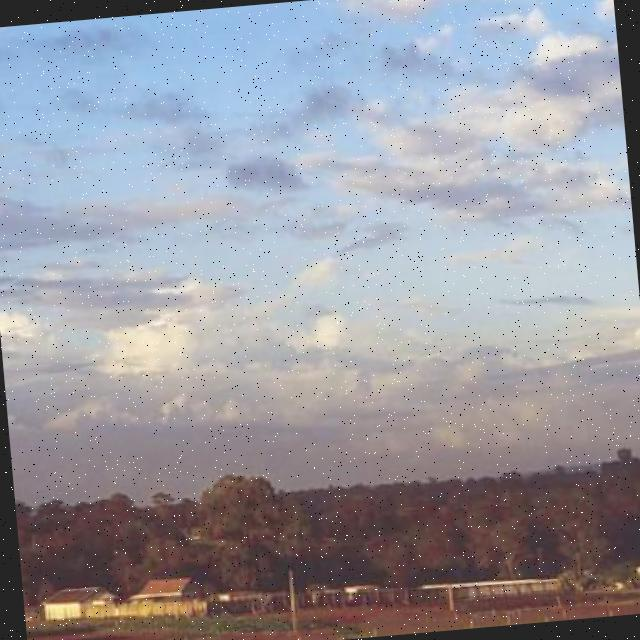Sc: (1, 15, 640, 490)
